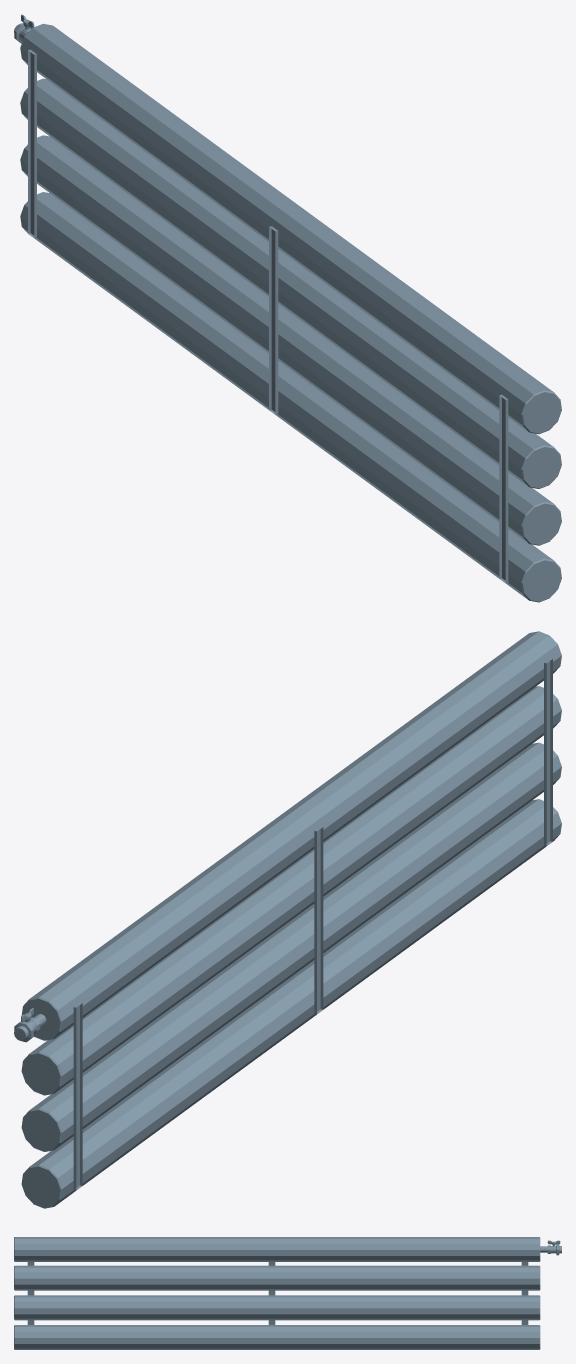
Rendered from battery2.fbx.
3 renders of one model, top to bottom at view 1: azimuth 30°, elevation 25°; view 2: azimuth 150°, elevation 25°; view 3: azimuth 270°, elevation 25°, orthographic. The views are drawn at different scales.
Visible parts, largest first — view 1: polySurface60; view 2: polySurface60; view 3: polySurface60.
Part boxes in pixels (box(x1,y1,x2,y2)): polySurface60: box(14, 14, 561, 602); polySurface60: box(14, 631, 561, 1208); polySurface60: box(14, 1237, 561, 1349).
Bounding box in the file's own units: 13.67 × 62.57 × 281.
